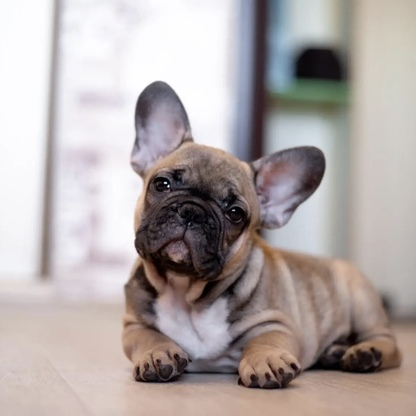bulldog: (116, 78, 408, 391)
